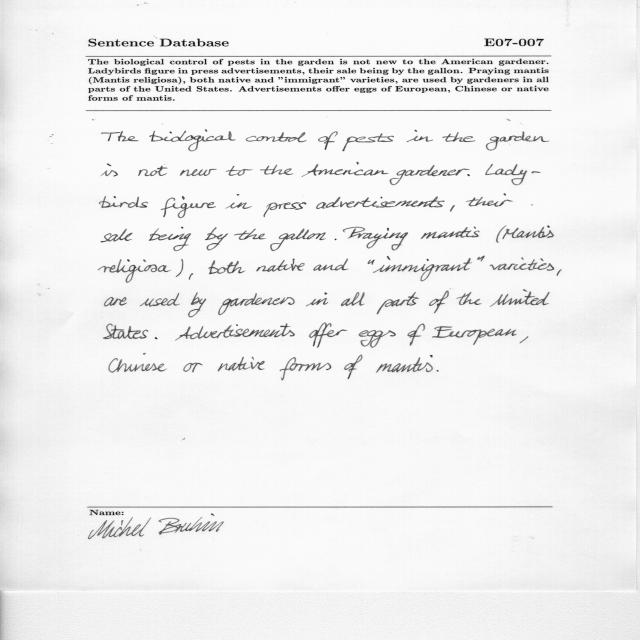word: (373, 256, 472, 281), (175, 323, 295, 341), (149, 130, 236, 151), (99, 259, 172, 283), (218, 293, 295, 315), (316, 196, 445, 209), (389, 165, 470, 185), (432, 326, 517, 345), (343, 227, 408, 250), (302, 162, 389, 177), (486, 131, 549, 151), (280, 357, 332, 381), (270, 229, 326, 251), (161, 196, 216, 218), (109, 353, 167, 373), (486, 164, 541, 185), (490, 289, 550, 307), (376, 355, 433, 373), (149, 227, 191, 251), (309, 323, 348, 348), (342, 134, 394, 152), (377, 292, 419, 314), (490, 257, 554, 271), (421, 226, 480, 239), (218, 357, 265, 372), (502, 226, 554, 239), (104, 324, 149, 339), (359, 330, 396, 348), (264, 202, 307, 217), (256, 259, 305, 272), (466, 194, 513, 207), (246, 132, 306, 142), (100, 196, 149, 208), (140, 293, 180, 307), (205, 227, 228, 251), (209, 260, 246, 274), (429, 291, 449, 314), (344, 355, 363, 379), (314, 258, 349, 271), (188, 293, 206, 318), (101, 229, 133, 242), (408, 323, 426, 346), (225, 194, 252, 209), (318, 131, 338, 150), (102, 131, 139, 141), (234, 229, 266, 240), (442, 132, 476, 142), (456, 292, 482, 305), (341, 292, 365, 306), (260, 165, 293, 175), (407, 130, 434, 142), (306, 293, 328, 307), (138, 166, 168, 176), (226, 166, 253, 176), (180, 169, 217, 176), (101, 164, 118, 177), (104, 297, 127, 306), (183, 363, 203, 373), (496, 226, 506, 243), (176, 259, 183, 277), (520, 337, 529, 344), (450, 205, 455, 212), (368, 260, 375, 265), (478, 256, 485, 261), (557, 269, 562, 276), (189, 273, 193, 280), (467, 174, 470, 176), (155, 337, 158, 339), (437, 370, 439, 372), (335, 239, 337, 240)
